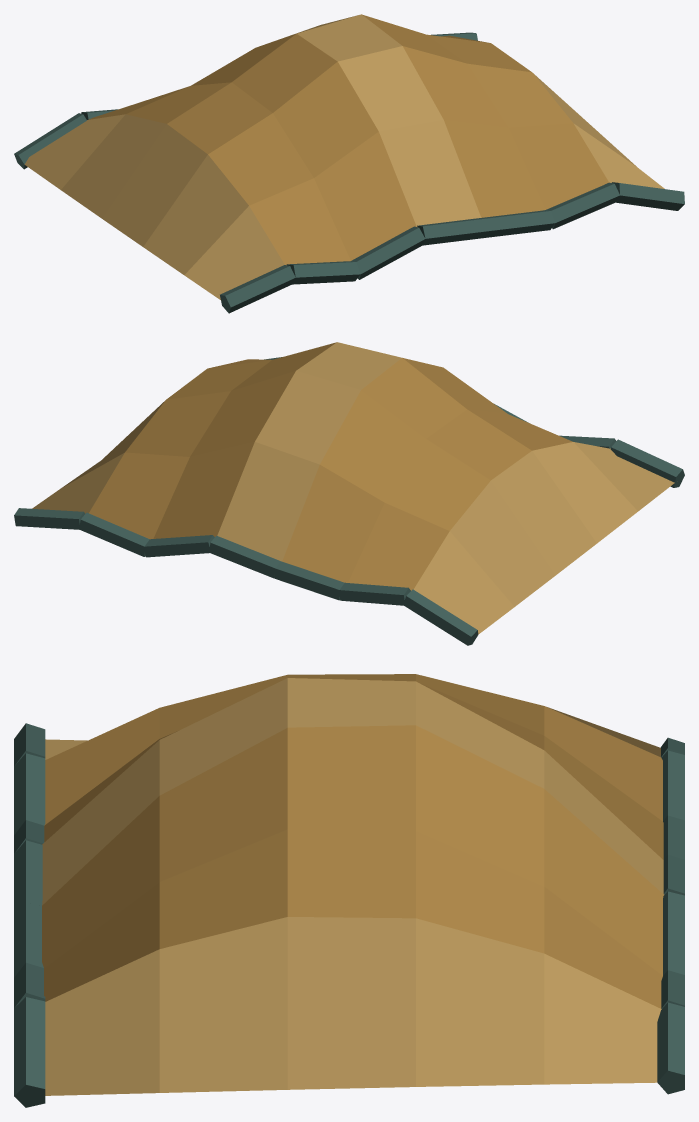
The model's file is basket_waxcloth.glb.
The picture shows the model from 3 angles, top to bottom: view 1: azimuth 30°, elevation 25°; view 2: azimuth 150°, elevation 25°; view 3: azimuth 270°, elevation 25°; orthographic projection. The views are drawn at different scales.
Parts seen in each view (by area): view 1: basket_waxcloth; view 2: basket_waxcloth; view 3: basket_waxcloth.
Part boxes in pixels (x1,y1,x2,y2): basket_waxcloth: (14,14,684,313); basket_waxcloth: (14,342,684,645); basket_waxcloth: (14,674,684,1107).
Size of the model in its own units: 0.4325 by 0.1365 by 0.3505.
